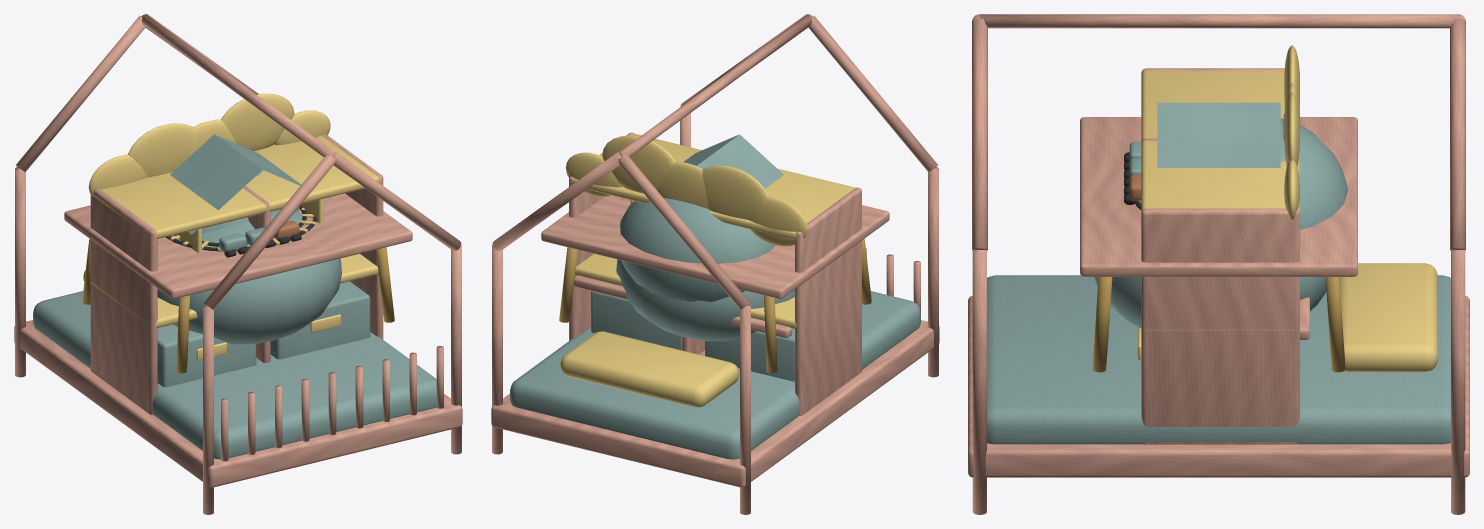
Rendered from tidy-life-play.glb.
The picture shows the model from 3 angles, left to right: view 1: azimuth 30°, elevation 25°; view 2: azimuth 150°, elevation 25°; view 3: azimuth 270°, elevation 25°; orthographic projection. The views are drawn at different scales.
Visible parts, largest first — view 1: life_play_housebed_mesh, life_play_cloudshelf_mesh, life_play_traintable_mesh, life_play_beanbag_mesh, life_play_dollhouse_mesh; view 2: life_play_housebed_mesh, life_play_cloudshelf_mesh, life_play_beanbag_mesh, life_play_traintable_mesh, life_play_dollhouse_mesh; view 3: life_play_housebed_mesh, life_play_cloudshelf_mesh, life_play_traintable_mesh, life_play_dollhouse_mesh, life_play_beanbag_mesh.
Boxes of the visible parts, left/top/right/bottom form: life_play_housebed_mesh: left=14, top=14, right=462, bottom=514; life_play_cloudshelf_mesh: left=88, top=93, right=383, bottom=414; life_play_traintable_mesh: left=64, top=193, right=412, bottom=373; life_play_beanbag_mesh: left=157, top=170, right=341, bottom=344; life_play_dollhouse_mesh: left=170, top=134, right=332, bottom=357; life_play_housebed_mesh: left=491, top=14, right=939, bottom=514; life_play_cloudshelf_mesh: left=565, top=132, right=861, bottom=415; life_play_beanbag_mesh: left=616, top=197, right=794, bottom=341; life_play_traintable_mesh: left=541, top=195, right=889, bottom=373; life_play_dollhouse_mesh: left=621, top=134, right=783, bottom=355; life_play_housebed_mesh: left=968, top=14, right=1469, bottom=514; life_play_cloudshelf_mesh: left=1138, top=45, right=1299, bottom=444; life_play_traintable_mesh: left=1080, top=117, right=1357, bottom=372; life_play_dollhouse_mesh: left=1157, top=102, right=1280, bottom=167; life_play_beanbag_mesh: left=1094, top=113, right=1347, bottom=328.
Size of the model in its own units: 0.49 by 0.6 by 0.65.
Materials: 8 (8 with a texture image).
